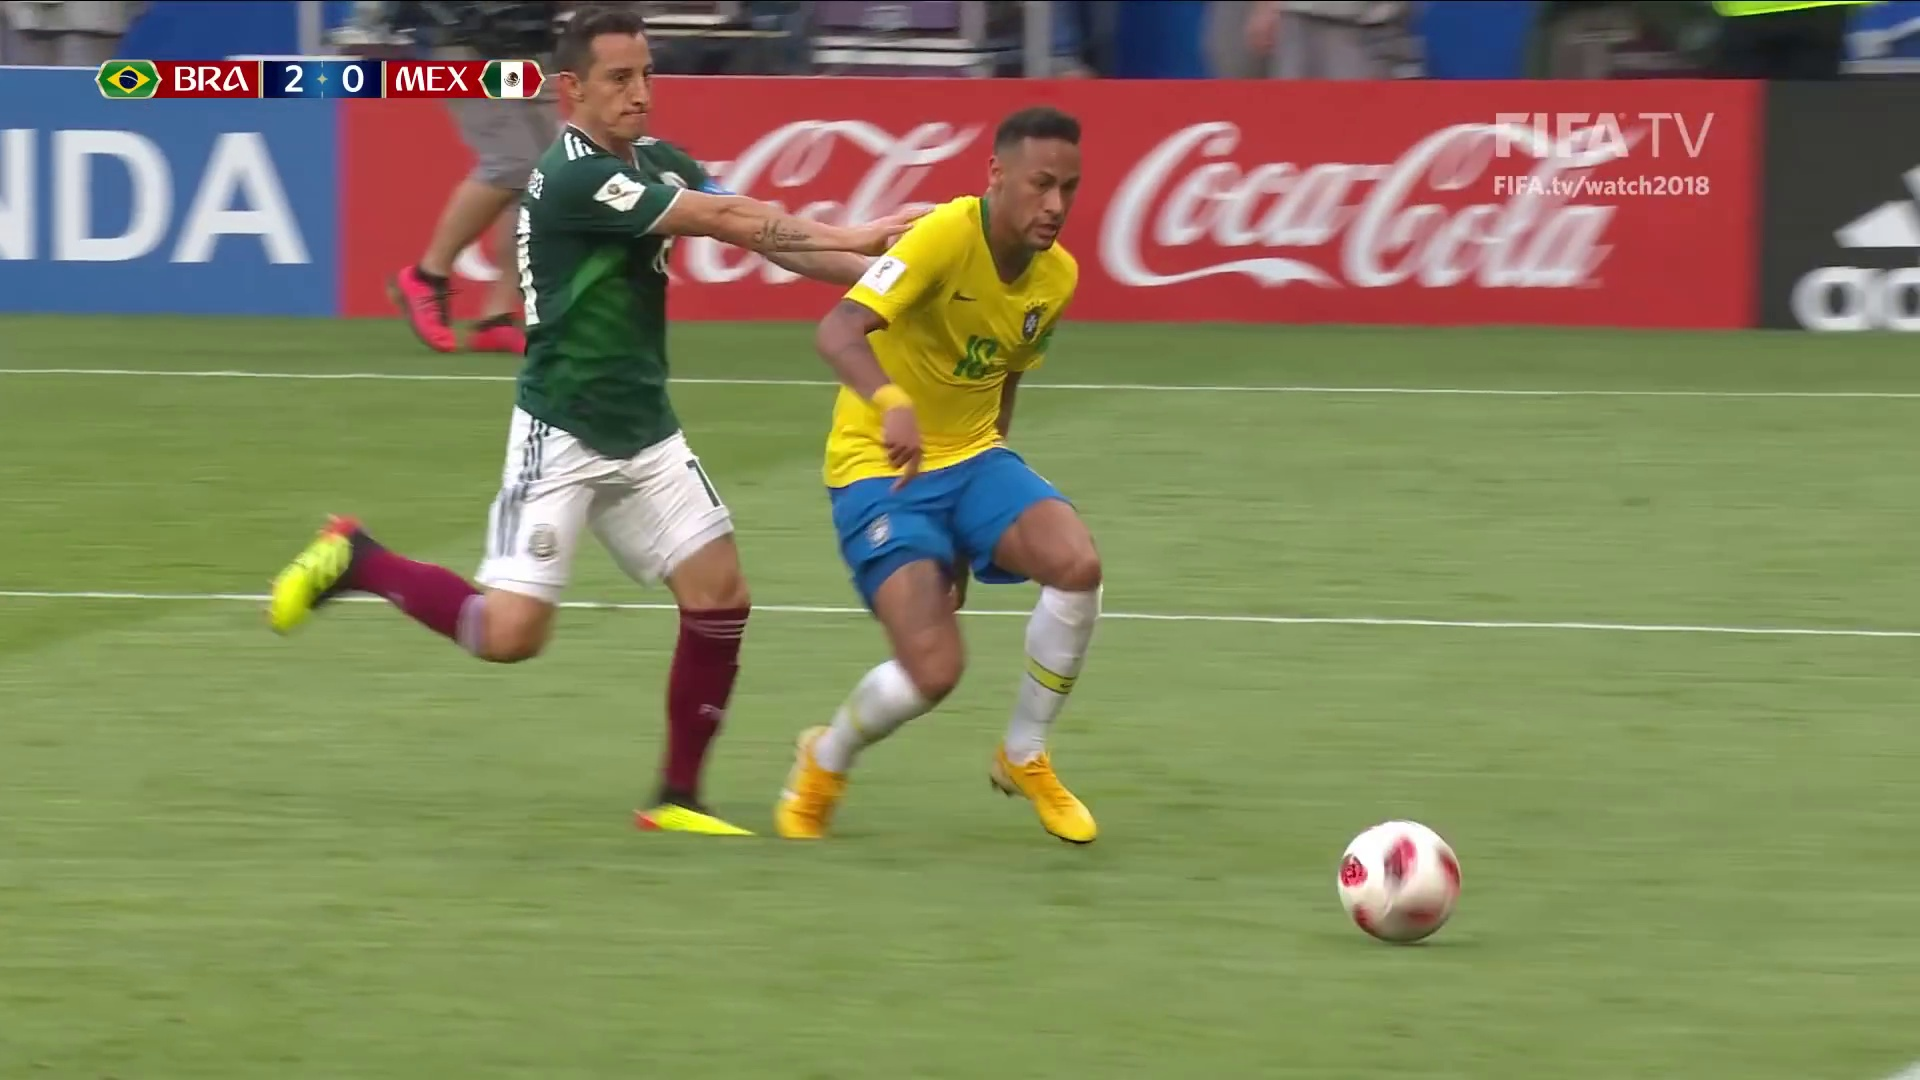ball: (1338, 818, 1457, 943)
person: (273, 1, 888, 838), (815, 111, 1105, 845)
